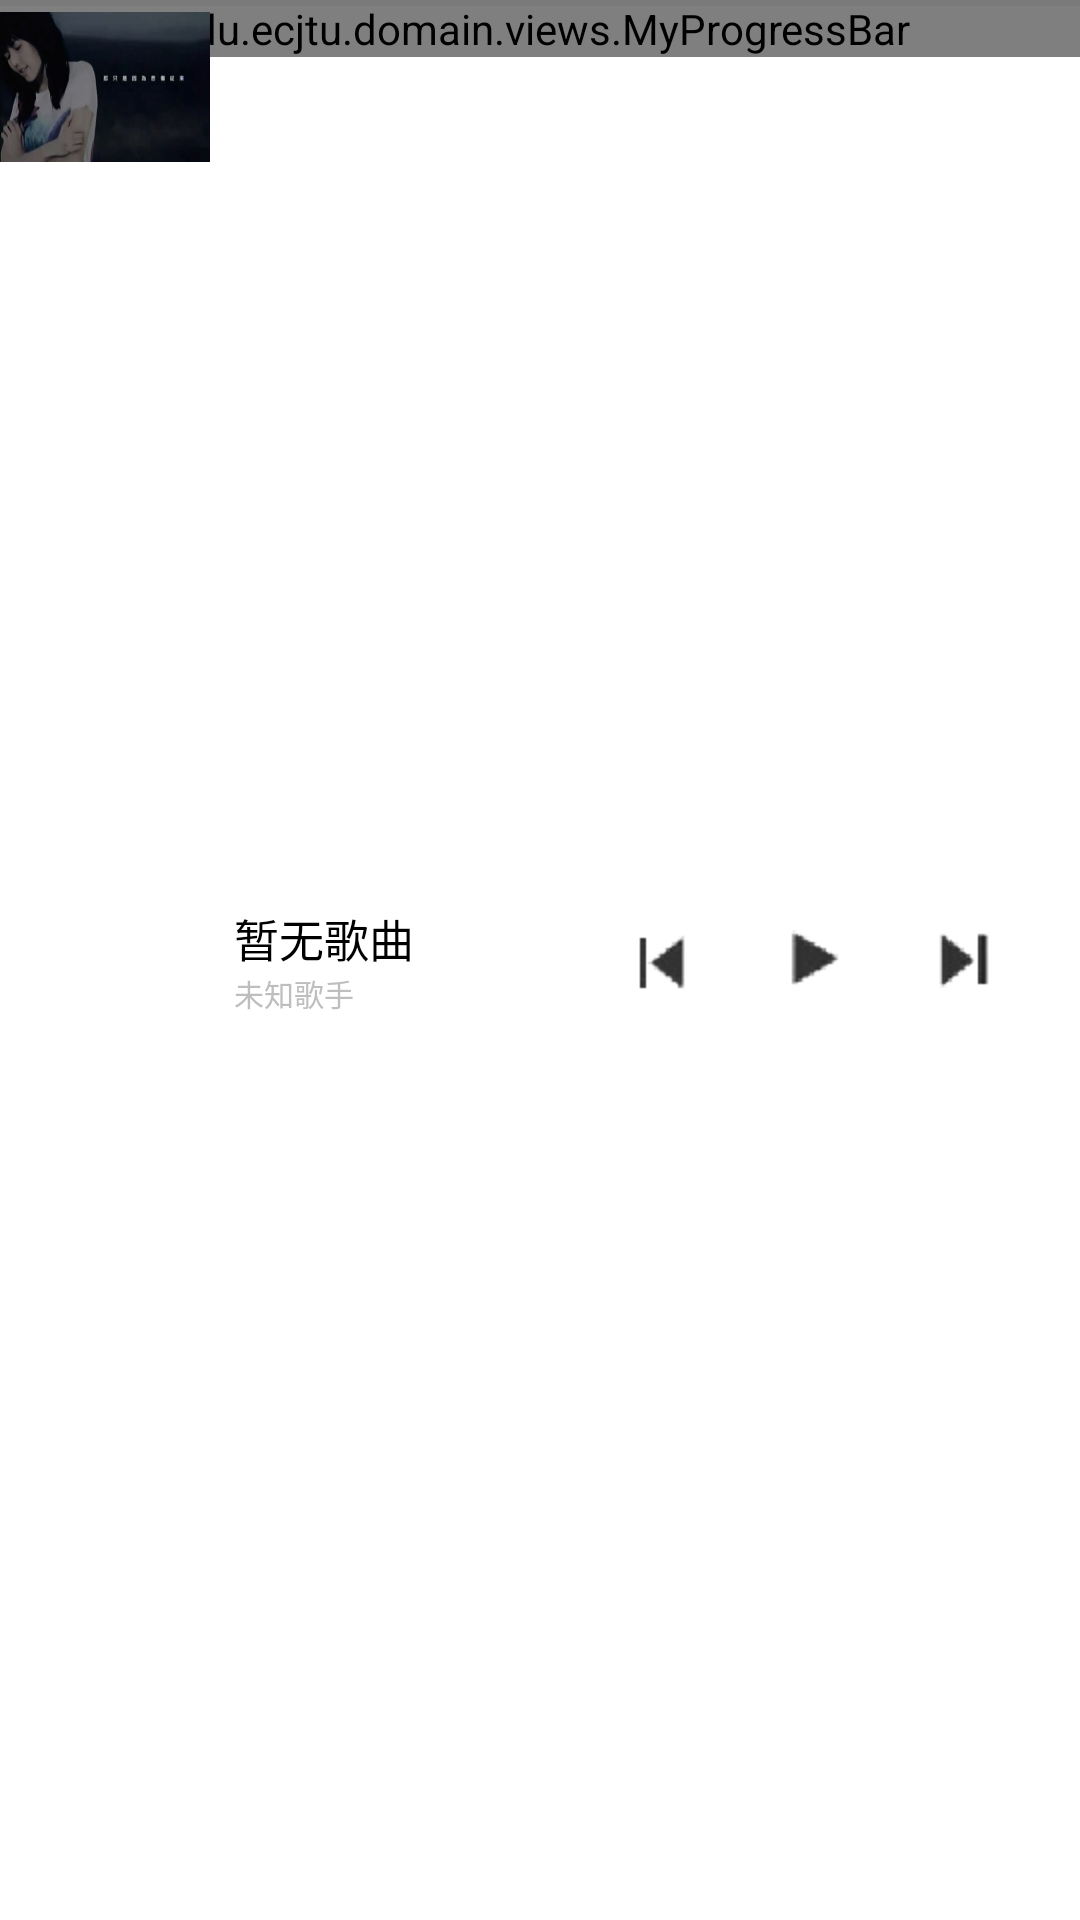

Named icons in this screenshot (1080px×1920px) and their bounding boxes, bbox=[x1, y1, x2, y2]:
next: bbox=[940, 933, 988, 986]
previous: bbox=[639, 936, 685, 989]
start: bbox=[791, 933, 838, 984]
